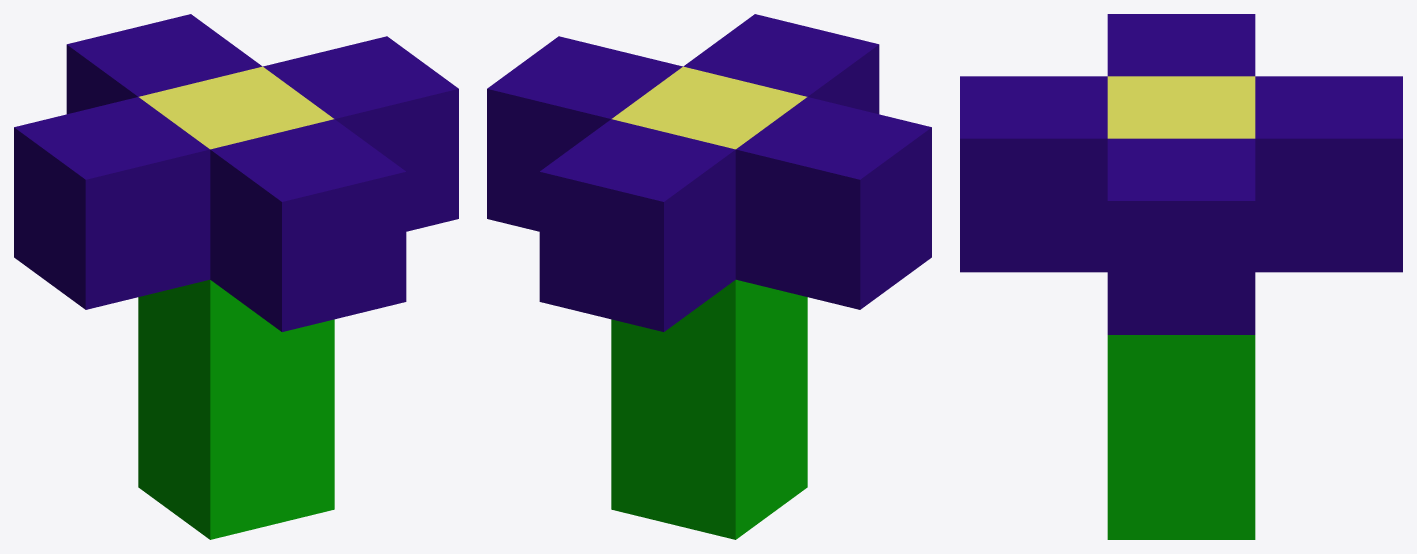
The model's file is Flower_0.fbx.
3 renders of one model, left to right at view 1: azimuth 30°, elevation 25°; view 2: azimuth 150°, elevation 25°; view 3: azimuth 270°, elevation 25°, orthographic. The views are drawn at different scales.
Parts seen in each view (by area): view 1: Flower_0; view 2: Flower_0; view 3: Flower_0.
Part boxes in pixels (x1,y1,x2,y2): Flower_0: [14, 14, 458, 539]; Flower_0: [487, 14, 931, 539]; Flower_0: [960, 14, 1402, 539].
Bounding box in the file's own units: 300 × 300 × 300.
